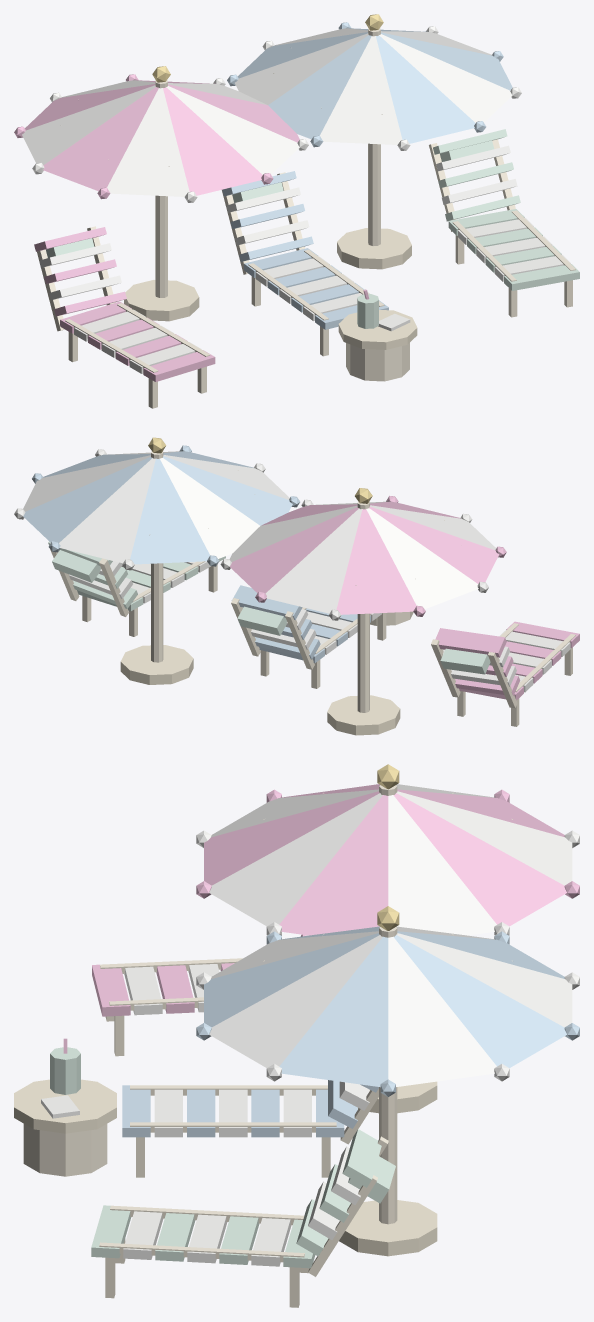
File: plazova_lehatka.glb
3 views of the same model, one above another, from view 1: azimuth 30°, elevation 25°; view 2: azimuth 150°, elevation 25°; view 3: azimuth 270°, elevation 25° (orthographic). The views are drawn at different scales.
Visible parts, largest first — view 1: PlazovaLehatka_white, PlazovaLehatka_lol, PlazovaLehatka_blue, PlazovaLehatka_cream, PlazovaLehatka_mint, PlazovaLehatka_sand; view 2: PlazovaLehatka_white, PlazovaLehatka_lol, PlazovaLehatka_blue, PlazovaLehatka_cream, PlazovaLehatka_mint, PlazovaLehatka_sand, PlazovaLehatka_gold; view 3: PlazovaLehatka_white, PlazovaLehatka_blue, PlazovaLehatka_lol, PlazovaLehatka_cream, PlazovaLehatka_mint, PlazovaLehatka_sand, PlazovaLehatka_gold.
Part boxes in pixels (bbox=[...]): PlazovaLehatka_white: bbox=[22, 26, 570, 373]; PlazovaLehatka_lol: bbox=[14, 74, 369, 381]; PlazovaLehatka_blue: bbox=[222, 22, 512, 329]; PlazovaLehatka_cream: bbox=[37, 28, 575, 408]; PlazovaLehatka_mint: bbox=[46, 129, 579, 328]; PlazovaLehatka_sand: bbox=[124, 228, 417, 349]; PlazovaLehatka_white: bbox=[14, 449, 570, 692]; PlazovaLehatka_lol: bbox=[230, 495, 579, 700]; PlazovaLehatka_blue: bbox=[23, 445, 370, 663]; PlazovaLehatka_cream: bbox=[50, 451, 575, 726]; PlazovaLehatka_mint: bbox=[48, 541, 490, 674]; PlazovaLehatka_sand: bbox=[120, 645, 400, 735]; PlazovaLehatka_gold: bbox=[148, 437, 372, 503]; PlazovaLehatka_white: bbox=[41, 784, 579, 1266]; PlazovaLehatka_blue: bbox=[122, 926, 579, 1137]; PlazovaLehatka_lol: bbox=[63, 784, 579, 1053]; PlazovaLehatka_cream: bbox=[23, 785, 513, 1307]; PlazovaLehatka_mint: bbox=[50, 1047, 395, 1268]; PlazovaLehatka_sand: bbox=[14, 1079, 437, 1256]; PlazovaLehatka_gold: bbox=[377, 764, 399, 930].
Bounding box in the file's own units: 5.79 × 2.79 × 4.39.
